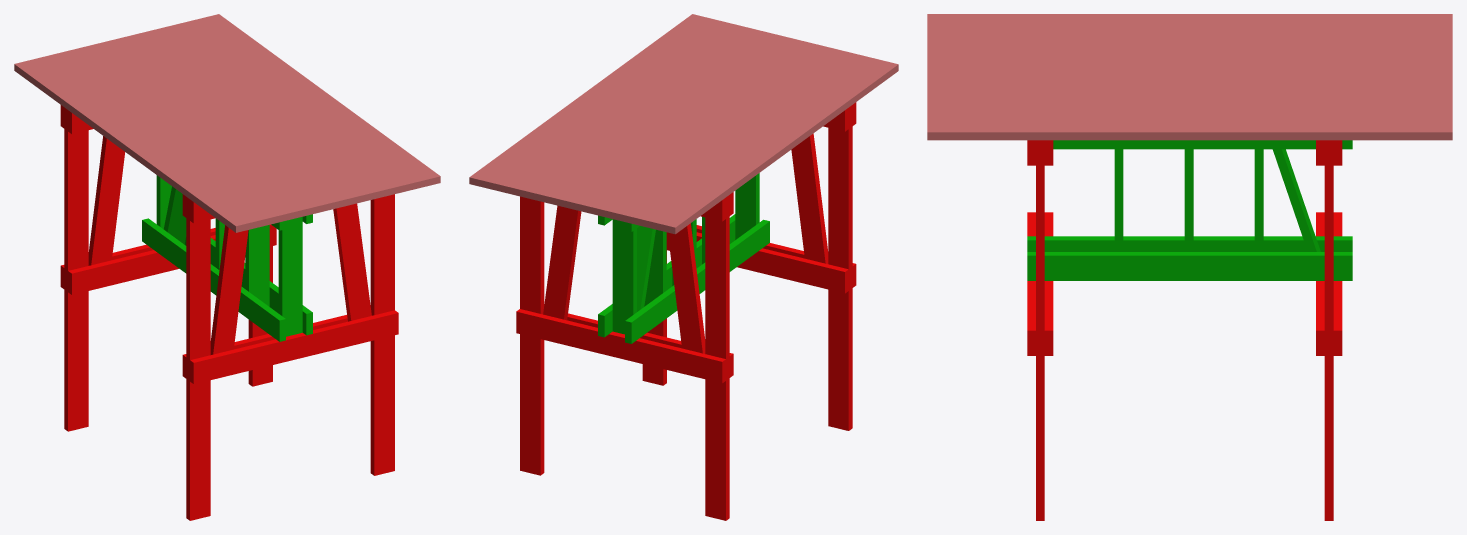
The model's file is result.glb.
3 renders of one model, left to right at view 1: azimuth 30°, elevation 25°; view 2: azimuth 150°, elevation 25°; view 3: azimuth 270°, elevation 25°, orthographic. The views are drawn at different scales.
Parts seen in each view (by area): view 1: c633e554-5ecc-4c9d-a7f8-60c069b1809a__sideV, 7a2fc476-6b50-4d8c-9546-b174a7547b07__undefined, f1056622-7ddc-4ec2-9414-4c57d8bafa15__sideV, e2124c32-78ef-45c7-9230-6ad0ce9a005c__Box, b9b496ed-a813-4310-9f2d-2ba57788609d__sideH, 197b79f3-cdda-4491-95fe-31fd64390ac8__undefined, b62b047e-1438-4e59-94cb-3cadbf241eb1__undefined, 6908f6a6-7518-4ed7-9a7f-d1c1f035666a__undefined, f39ada7c-0188-414b-97ef-b400c070bc34__undefined, 10c86052-9a49-4081-858e-51935a9fb132__undefined, 04a4ff0c-192a-4c7c-9885-d44e6c3a93dd__undefined, c37f407f-6977-4cf7-a979-f8adc2a4c35c__undefined (+14 smaller); view 2: c633e554-5ecc-4c9d-a7f8-60c069b1809a__sideV, 7a2fc476-6b50-4d8c-9546-b174a7547b07__undefined, e2124c32-78ef-45c7-9230-6ad0ce9a005c__Box, 01b32076-ae31-4a62-8210-0b30771134af__undefined, 3088ee5c-7b7e-42d7-a694-5089b0726ad2__undefined, 6908f6a6-7518-4ed7-9a7f-d1c1f035666a__undefined, 10c86052-9a49-4081-858e-51935a9fb132__undefined, c37f407f-6977-4cf7-a979-f8adc2a4c35c__undefined, bc9de7d8-dca7-492f-b690-b7ee34d6d186__undefined, b62b047e-1438-4e59-94cb-3cadbf241eb1__undefined, 197b79f3-cdda-4491-95fe-31fd64390ac8__undefined, f39ada7c-0188-414b-97ef-b400c070bc34__undefined (+14 smaller); view 3: 16864667-7f03-4822-a7ab-7929a360f95f__undefined, d1fc67a6-0052-429b-aea9-4f7a7897317e__strutH, 6908f6a6-7518-4ed7-9a7f-d1c1f035666a__undefined, f39ada7c-0188-414b-97ef-b400c070bc34__undefined, b62b047e-1438-4e59-94cb-3cadbf241eb1__undefined, 197b79f3-cdda-4491-95fe-31fd64390ac8__undefined, e2124c32-78ef-45c7-9230-6ad0ce9a005c__Box, 04a4ff0c-192a-4c7c-9885-d44e6c3a93dd__undefined, c37f407f-6977-4cf7-a979-f8adc2a4c35c__undefined, bc9de7d8-dca7-492f-b690-b7ee34d6d186__undefined, 10c86052-9a49-4081-858e-51935a9fb132__undefined, 9bf37fdf-5850-4607-bfa3-2efdfb9e4987__strutH (+11 smaller).
Part boxes in pixels (bbox=[...]): c633e554-5ecc-4c9d-a7f8-60c069b1809a__sideV: bbox=[186, 197, 210, 520]; 7a2fc476-6b50-4d8c-9546-b174a7547b07__undefined: bbox=[64, 107, 88, 431]; f1056622-7ddc-4ec2-9414-4c57d8bafa15__sideV: bbox=[370, 194, 394, 475]; e2124c32-78ef-45c7-9230-6ad0ce9a005c__Box: bbox=[14, 59, 256, 232]; b9b496ed-a813-4310-9f2d-2ba57788609d__sideH: bbox=[190, 310, 398, 384]; 197b79f3-cdda-4491-95fe-31fd64390ac8__undefined: bbox=[178, 19, 420, 192]; b62b047e-1438-4e59-94cb-3cadbf241eb1__undefined: bbox=[96, 39, 338, 212]; 6908f6a6-7518-4ed7-9a7f-d1c1f035666a__undefined: bbox=[55, 49, 297, 222]; f39ada7c-0188-414b-97ef-b400c070bc34__undefined: bbox=[76, 44, 317, 217]; 10c86052-9a49-4081-858e-51935a9fb132__undefined: bbox=[158, 24, 399, 197]; 04a4ff0c-192a-4c7c-9885-d44e6c3a93dd__undefined: bbox=[35, 54, 276, 227]; c37f407f-6977-4cf7-a979-f8adc2a4c35c__undefined: bbox=[117, 34, 358, 207]; c633e554-5ecc-4c9d-a7f8-60c069b1809a__sideV: bbox=[828, 105, 852, 430]; 7a2fc476-6b50-4d8c-9546-b174a7547b07__undefined: bbox=[705, 195, 729, 520]; e2124c32-78ef-45c7-9230-6ad0ce9a005c__Box: bbox=[655, 59, 898, 234]; 01b32076-ae31-4a62-8210-0b30771134af__undefined: bbox=[520, 196, 544, 475]; 3088ee5c-7b7e-42d7-a694-5089b0726ad2__undefined: bbox=[516, 309, 725, 383]; 6908f6a6-7518-4ed7-9a7f-d1c1f035666a__undefined: bbox=[613, 49, 856, 223]; 10c86052-9a49-4081-858e-51935a9fb132__undefined: bbox=[510, 24, 753, 198]; c37f407f-6977-4cf7-a979-f8adc2a4c35c__undefined: bbox=[551, 34, 795, 208]; bc9de7d8-dca7-492f-b690-b7ee34d6d186__undefined: bbox=[531, 29, 774, 203]; b62b047e-1438-4e59-94cb-3cadbf241eb1__undefined: bbox=[572, 39, 815, 213]; 197b79f3-cdda-4491-95fe-31fd64390ac8__undefined: bbox=[490, 19, 733, 193]; f39ada7c-0188-414b-97ef-b400c070bc34__undefined: bbox=[593, 44, 836, 219]; 16864667-7f03-4822-a7ab-7929a360f95f__undefined: bbox=[927, 120, 1452, 140]; d1fc67a6-0052-429b-aea9-4f7a7897317e__strutH: bbox=[1027, 252, 1352, 280]; 6908f6a6-7518-4ed7-9a7f-d1c1f035666a__undefined: bbox=[927, 37, 1452, 49]; f39ada7c-0188-414b-97ef-b400c070bc34__undefined: bbox=[927, 49, 1452, 61]; b62b047e-1438-4e59-94cb-3cadbf241eb1__undefined: bbox=[927, 61, 1452, 73]; 197b79f3-cdda-4491-95fe-31fd64390ac8__undefined: bbox=[927, 108, 1452, 120]; e2124c32-78ef-45c7-9230-6ad0ce9a005c__Box: bbox=[927, 14, 1452, 25]; 04a4ff0c-192a-4c7c-9885-d44e6c3a93dd__undefined: bbox=[927, 26, 1452, 37]; c37f407f-6977-4cf7-a979-f8adc2a4c35c__undefined: bbox=[927, 73, 1452, 84]; bc9de7d8-dca7-492f-b690-b7ee34d6d186__undefined: bbox=[927, 85, 1452, 96]; 10c86052-9a49-4081-858e-51935a9fb132__undefined: bbox=[927, 97, 1452, 108]; 9bf37fdf-5850-4607-bfa3-2efdfb9e4987__strutH: bbox=[1027, 236, 1352, 251].
Bounding box in the file's own units: 800 × 1225 × 1500.
